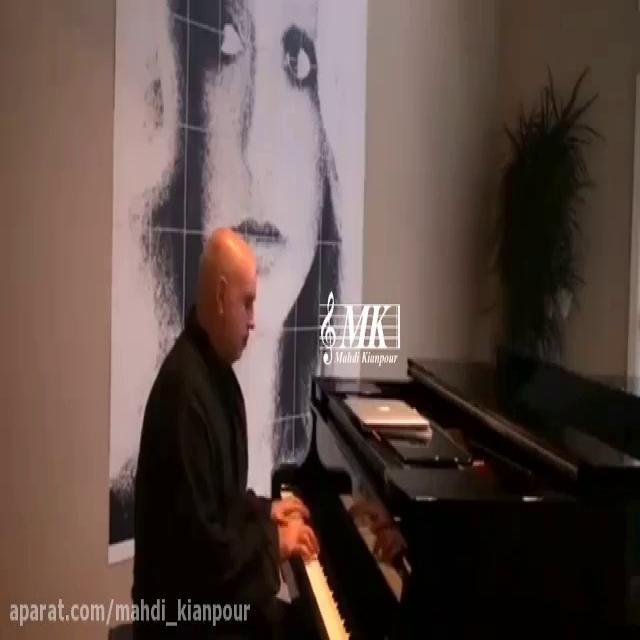Piano: (274, 452, 394, 640)
